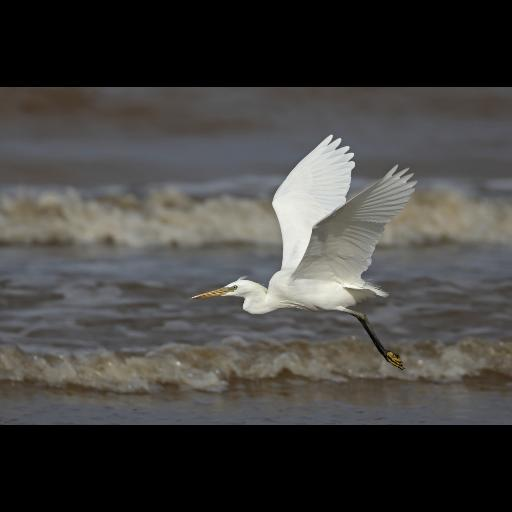chinese_egret: (188, 134, 418, 372)
